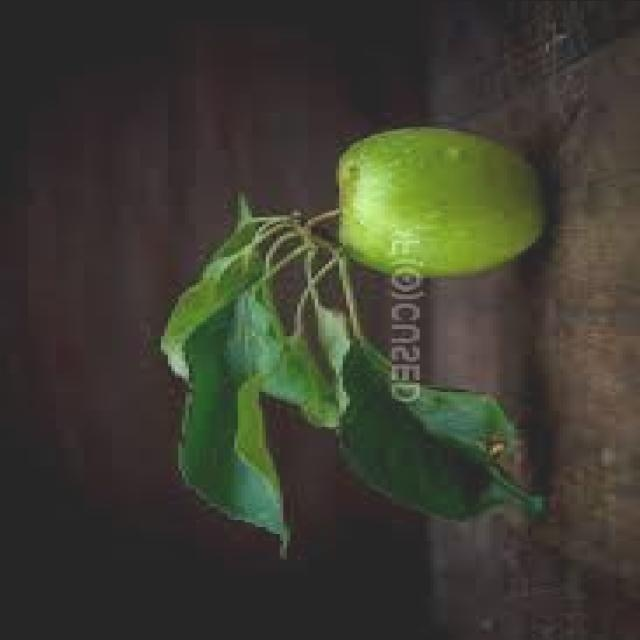agrume: (298, 125, 558, 347)
